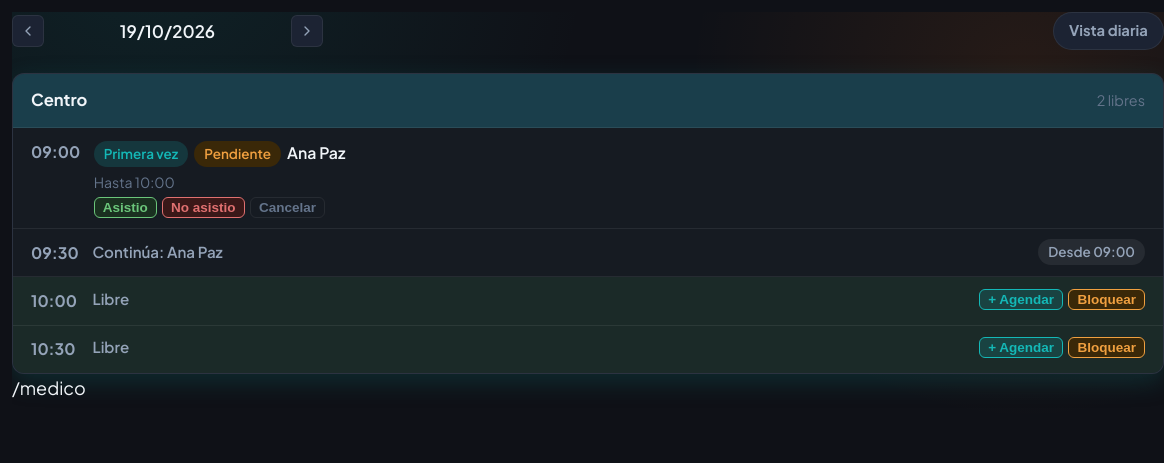
AgendaTab › marca asistencia de un turno
The image size is (1164, 463).
What coordinates should you click on to do the following:
click the button "Asistio"
I would click on:
 (125, 208)
Its box is [94,197,157,218].
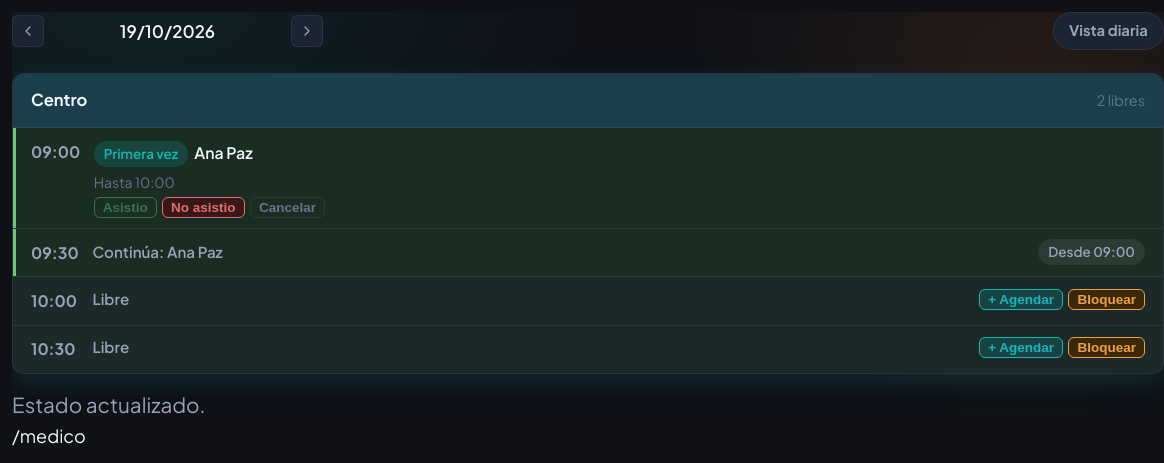
Expected: the text "Estado actualizado." is shown, [12,392,206,418]
Expected: the button "Asistio" is disabled, [94,197,157,218]
